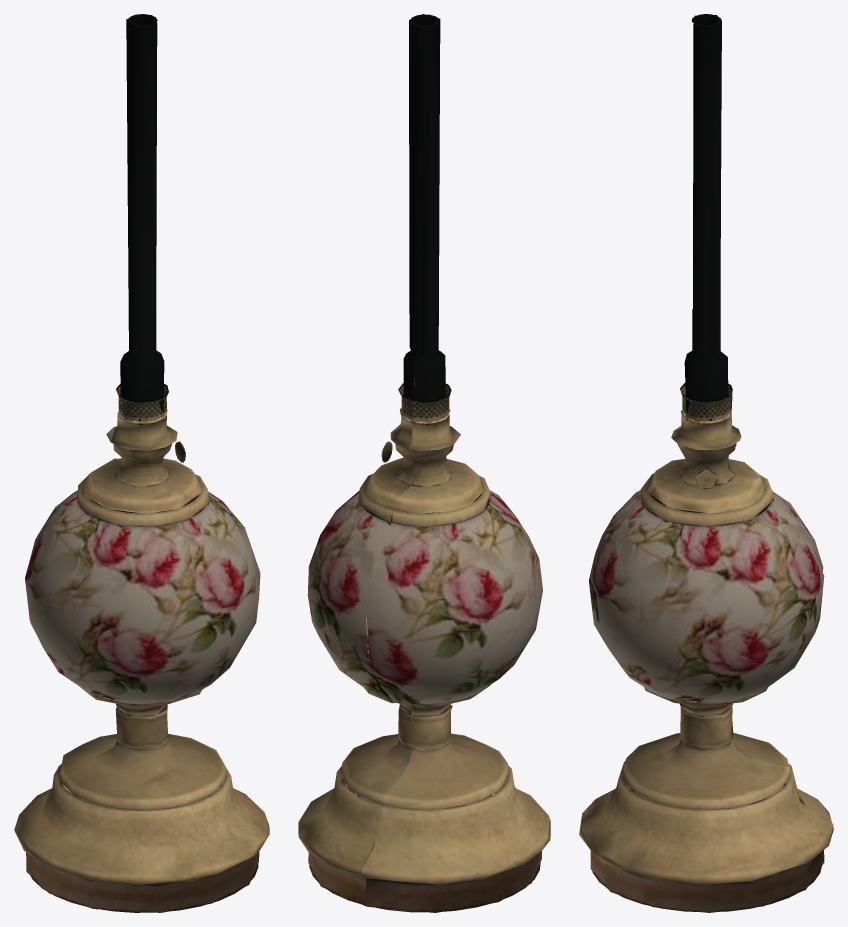
File: isl_oillamp.glb
3 renders of one model, left to right at view 1: azimuth 30°, elevation 25°; view 2: azimuth 150°, elevation 25°; view 3: azimuth 270°, elevation 25°, orthographic.
Visible parts, largest first — view 1: vintage_oil_lamp_glass; view 2: vintage_oil_lamp_glass; view 3: vintage_oil_lamp_glass.
Part boxes in pixels (x1,y1,x2,y2): vintage_oil_lamp_glass: (14, 14, 269, 912); vintage_oil_lamp_glass: (298, 14, 550, 912); vintage_oil_lamp_glass: (579, 14, 833, 912).
Size of the model in its own units: 0.2201 by 0.8016 by 0.2196.
Materials: 3 (3 with a texture image).
